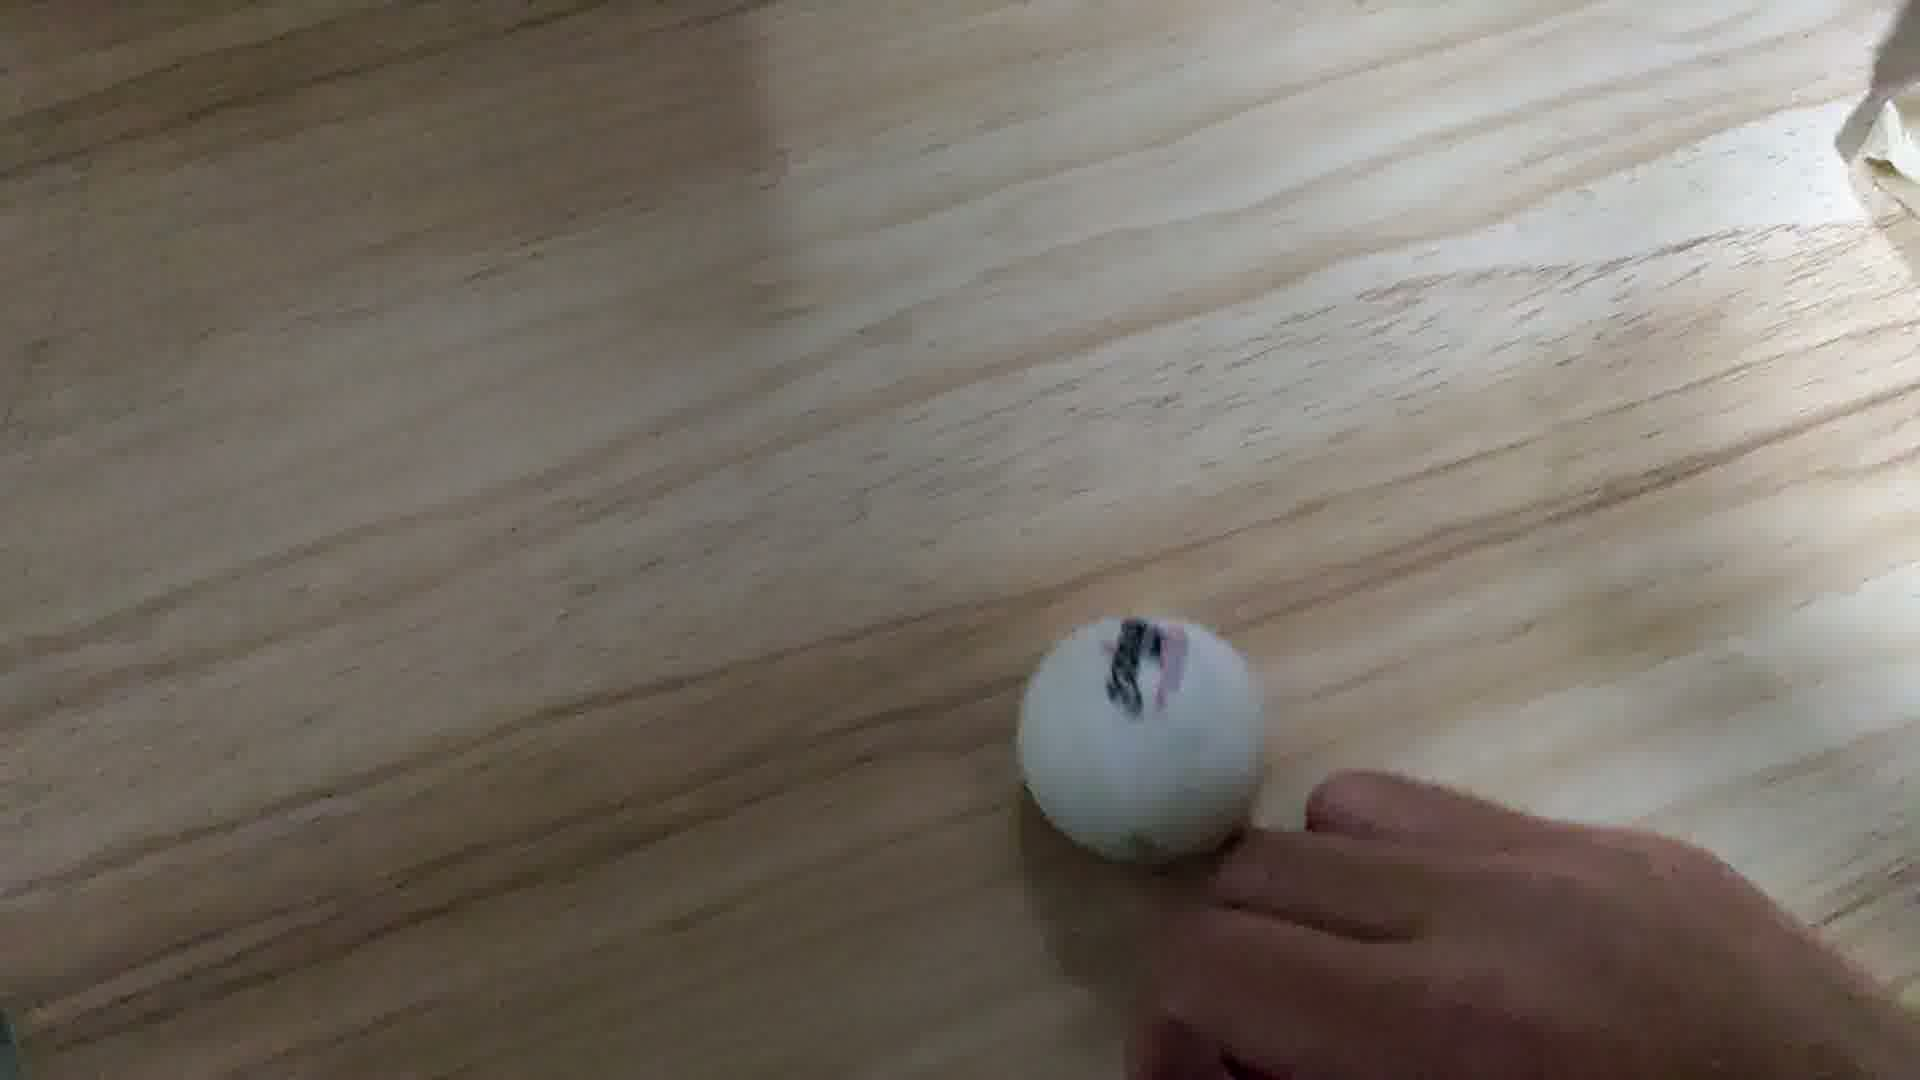Ball: (1014, 611, 1273, 869)
